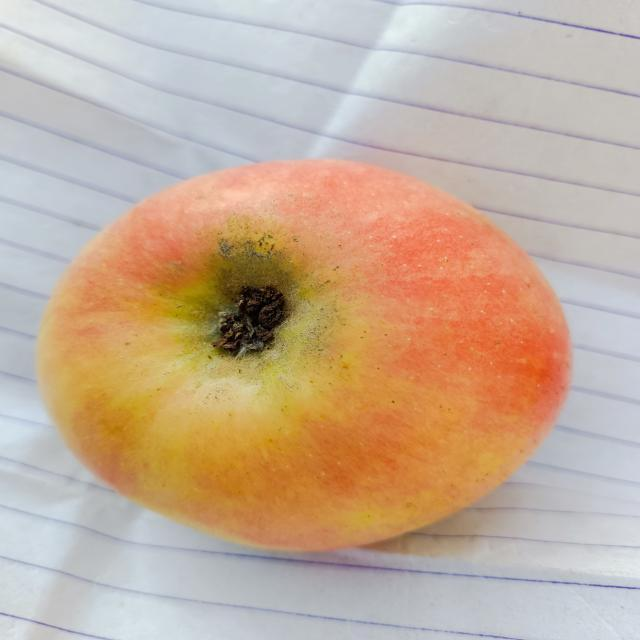Fresh Apple: (48, 176, 572, 552)
